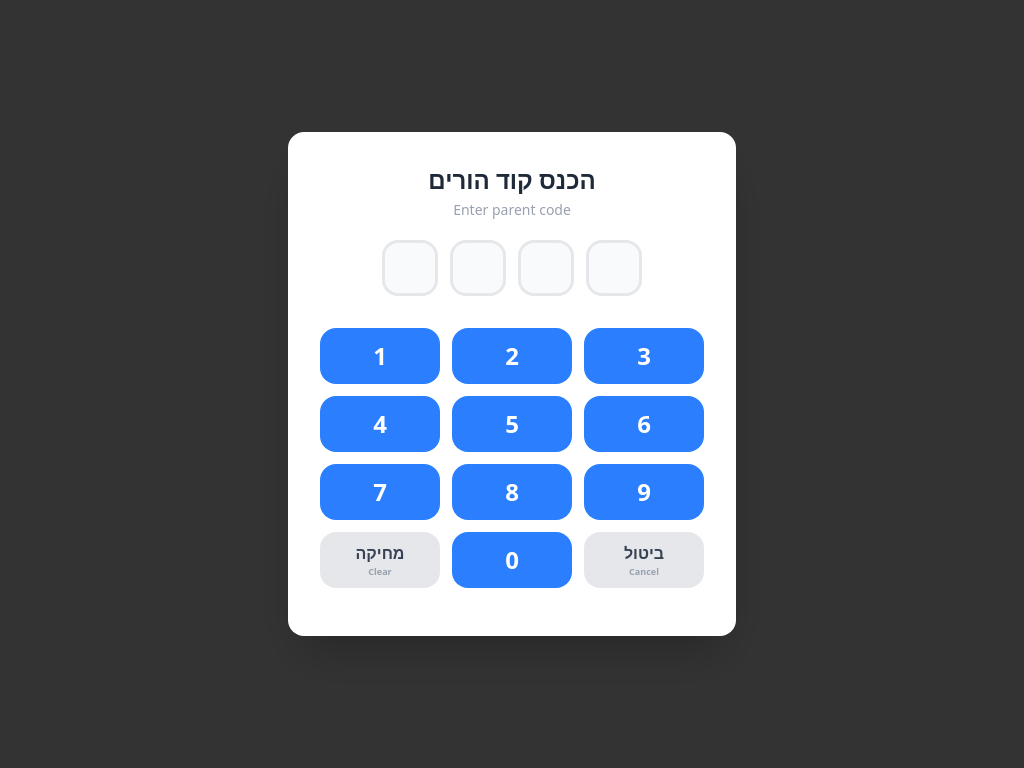
Test: PinModal › shows error on incorrect PIN
Click the button "9" at point(644, 492), box [584,464,704,520]
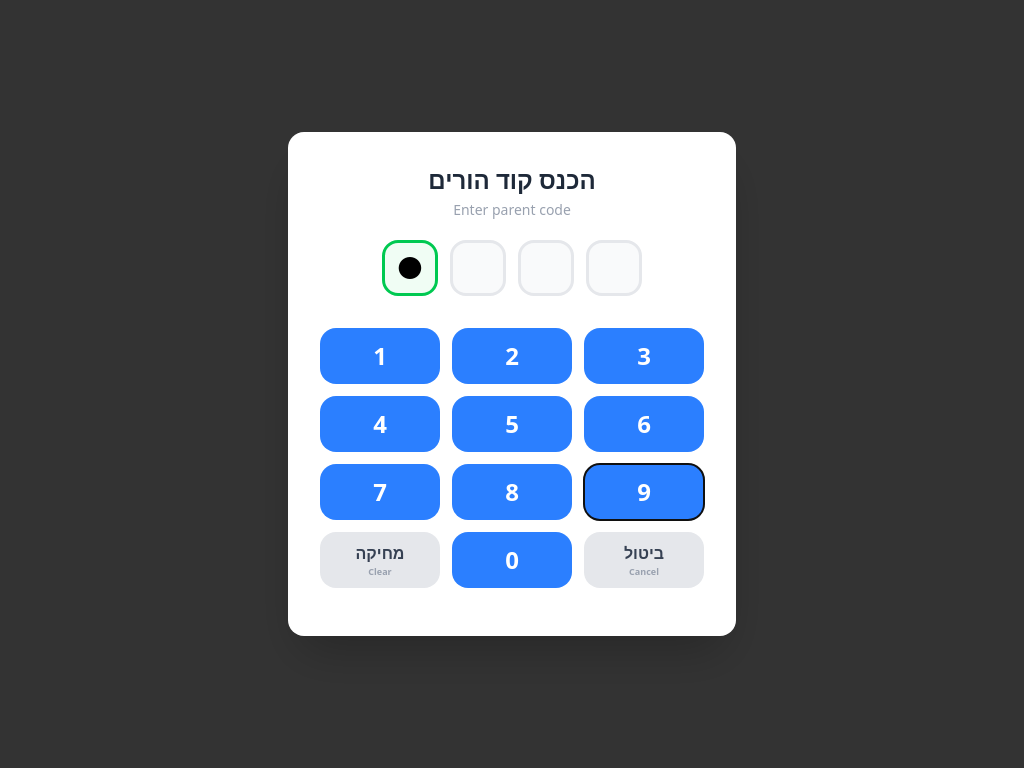
Click the button "9" at point(644, 492), box [584,464,704,520]
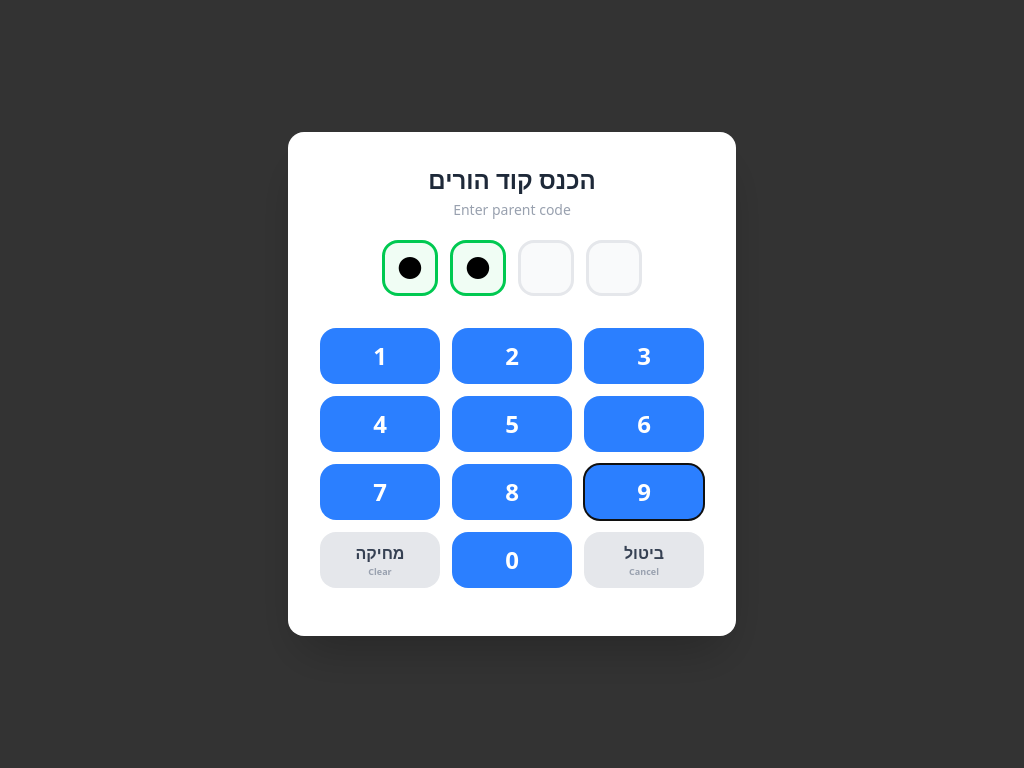
Click the button "9" at point(644, 492), box [584,464,704,520]
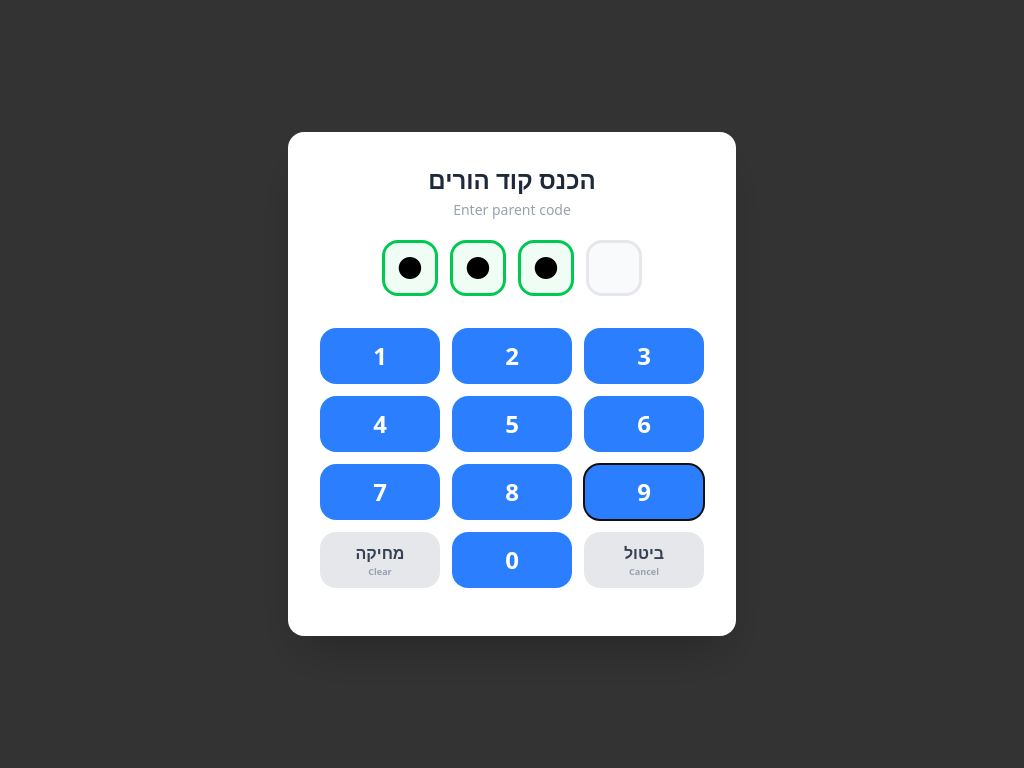
Click the button "9" at point(644, 492), box [584,464,704,520]
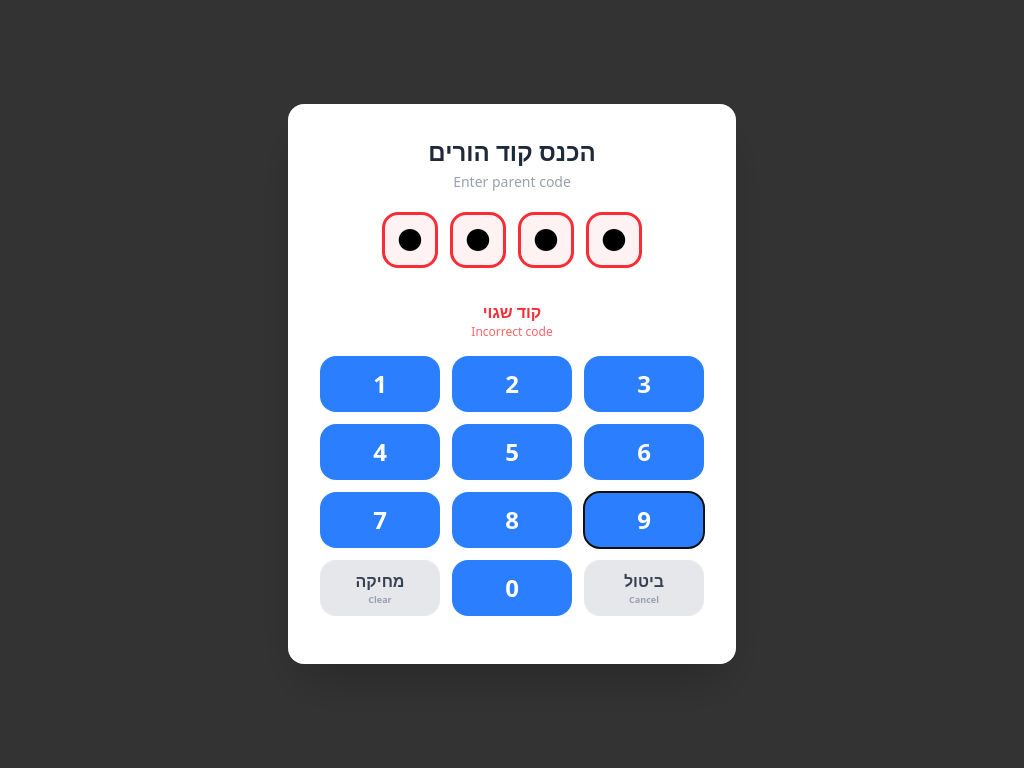
Expected: the text "קוד שגוי" is shown, [483,301,541,323]
